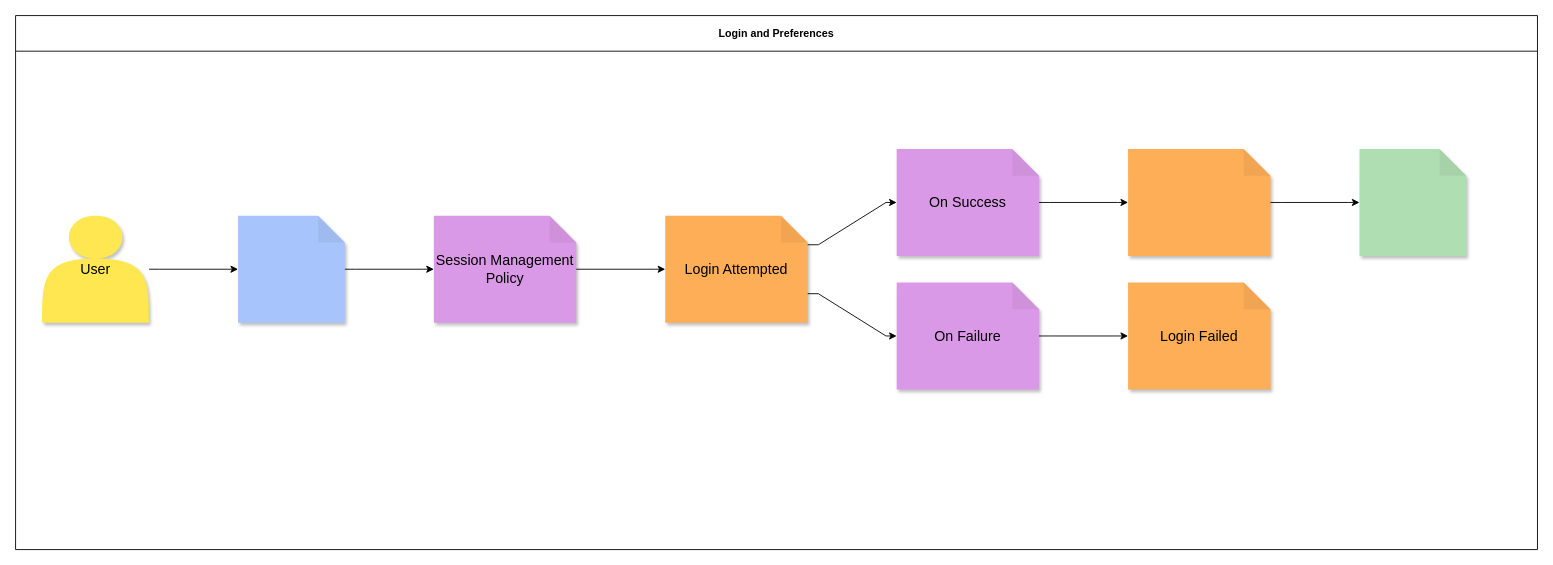
This 1553x565 diagram has some shape labels left out. The shapes that lost their labels are listed below. From the top down, each one's centre as x and y in pixels, then its label:
(1199,203): Login Succeeded
(1413,203): Dashboard
(292,270): Submit Login
